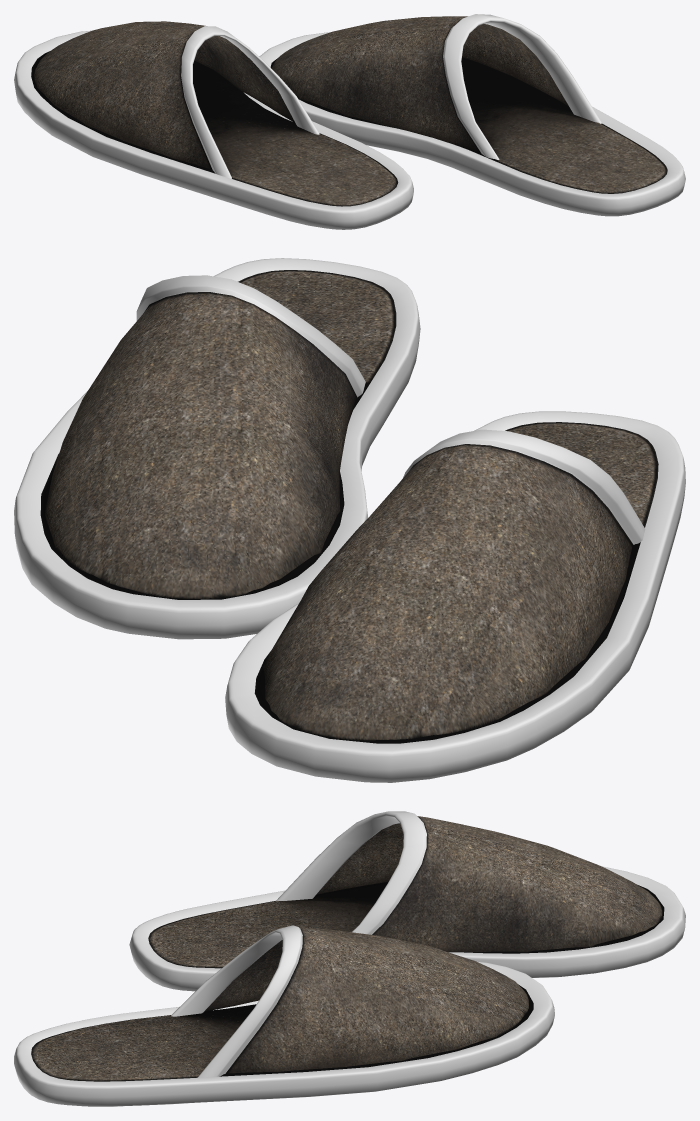
File: Slippers.fbx
3 renders of one model, top to bottom at view 1: azimuth 30°, elevation 25°; view 2: azimuth 150°, elevation 25°; view 3: azimuth 270°, elevation 25°, orthographic. The views are drawn at different scales.
Visible parts, largest first — view 1: Object_3, Object_2; view 2: Object_3, Object_2; view 3: Object_3, Object_2.
Boxes of the visible parts, box(x1,y1,x2,y2) form: Object_3: box(31, 16, 667, 206); Object_2: box(14, 14, 685, 229); Object_3: box(40, 270, 658, 743); Object_2: box(14, 258, 685, 782); Object_3: box(31, 816, 664, 1081); Object_2: box(14, 811, 685, 1106).
Bounding box in the file's own units: 32.29 × 8 × 40.25.
2 materials, 1 textured.
